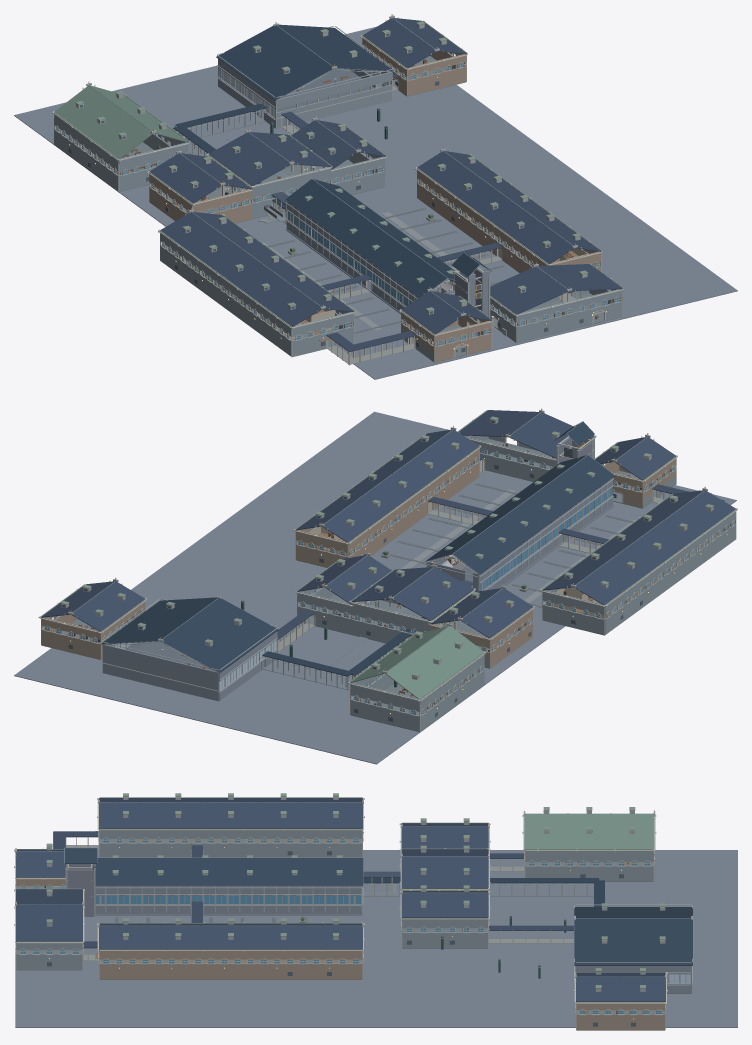
File: lahudi-academy_INTERIOR-FURNITURE-V12.glb
3 renders of one model, top to bottom at view 1: azimuth 30°, elevation 25°; view 2: azimuth 150°, elevation 25°; view 3: azimuth 270°, elevation 25°, orthographic.
Visible parts, largest first — view 1: RG-GAME-02-EXTERIOR-REBUILD-V5__winter_campus_snowbase, RG-GAME-02-EXTERIOR-REBUILD-V5__academic_high_gable_slate_ro (×2), RG-GAME-02-EXTERIOR-REBUILD-V5__library_high_gable_slate_roo (×2), RG-GAME-02-PLAN-LOCK-V9__B_WEST_side_0, RG-GAME-02-PLAN-LOCK-V9__C_EAST_side_0, RG-GAME-02-PLAN-LOCK-V9__G_ASSEMBLY_side_0, RG-GAME-02-PLAN-LOCK-V9__B_WEST_side_1, RG-GAME-02-PLAN-LOCK-V9__B_WEST_west_wall_band_-68.00_24.00 (×2), RG-GAME-02-PLAN-LOCK-V9__E_CENTER_HALL_side_0, RG-GAME-02-PLAN-LOCK-V9__D_EAST_ENTRY_side_0, RG-GAME-02-PLAN-LOCK-V9__C_EAST_west_wall_band_-68.00_24.00 (×2), RG-GAME-02-PLAN-LOCK-V9__F_LIBRARY_SOUTH_REPLACEMENT_wall_ba (×2) (+34 smaller); view 2: RG-GAME-02-EXTERIOR-REBUILD-V5__winter_campus_snowbase, RG-GAME-02-EXTERIOR-REBUILD-V5__academic_high_gable_slate_ro (×2), RG-GAME-02-EXTERIOR-REBUILD-V5__library_high_gable_slate_roo (×2), RG-GAME-02-PLAN-LOCK-V9__B_WEST_side_0, RG-GAME-02-PLAN-LOCK-V9__C_EAST_side_0, RG-GAME-02-EXTERIOR-REBUILD-V5__library_endwall_north, RG-GAME-02-PLAN-LOCK-V9__G_ASSEMBLY_side_0, RG-GAME-02-PLAN-LOCK-V9__B_WEST_side_1, RG-GAME-02-PLAN-LOCK-V9__B_WEST_west_wall_band_-68.00_24.00 (×2), RG-GAME-02-PLAN-LOCK-V9__E_CENTER_HALL_side_0, RG-GAME-02-PLAN-LOCK-V9__C_EAST_west_wall_band_-68.00_24.00 (×2), RG-GAME-02-PLAN-LOCK-V9__C_EAST_side_1 (+35 smaller); view 3: RG-GAME-02-EXTERIOR-REBUILD-V5__winter_campus_snowbase, RG-GAME-02-EXTERIOR-REBUILD-V5__academic_high_gable_slate_ro, RG-GAME-02-PLAN-LOCK-V9__B_WEST_side_1, RG-GAME-02-EXTERIOR-REBUILD-V5__library_high_gable_slate_roo (×2), RG-GAME-02-PLAN-LOCK-V9__C_EAST_side_1, RG-GAME-02-PLAN-LOCK-V9__G_ASSEMBLY_side_1, RG-GAME-02-PLAN-LOCK-V9__C_EAST_east_wall_band_-68.00_24.00 (×2), RG-GAME-02-PLAN-LOCK-V9__B_WEST_east_wall_band_-68.00_24.00 (×2), RG-GAME-02-PLAN-LOCK-V9__E_CENTER_HALL_side_1, RG-GAME-02-PLAN-LOCK-V9__C_EAST_east_low_wall_-68.00_24.00, RG-GAME-02-PLAN-LOCK-V9__D_EAST_ENTRY_side_1, RG-GAME-02-PLAN-LOCK-V9__G_ASSEMBLY_east_wall_band_-170.00_- (×2) (+42 smaller).
Boxes of the visible parts, <box> form: RG-GAME-02-EXTERIOR-REBUILD-V5__winter_campus_snowbase: <box>14,26,737,379</box>; RG-GAME-02-EXTERIOR-REBUILD-V5__academic_high_gable_slate_ro (×2): <box>285,179,465,297</box>; RG-GAME-02-EXTERIOR-REBUILD-V5__library_high_gable_slate_roo (×2): <box>216,24,393,100</box>; RG-GAME-02-PLAN-LOCK-V9__B_WEST_side_0: <box>160,212,322,326</box>; RG-GAME-02-PLAN-LOCK-V9__C_EAST_side_0: <box>417,151,574,264</box>; RG-GAME-02-PLAN-LOCK-V9__G_ASSEMBLY_side_0: <box>54,86,153,159</box>; RG-GAME-02-PLAN-LOCK-V9__B_WEST_side_1: <box>193,212,353,312</box>; RG-GAME-02-PLAN-LOCK-V9__B_WEST_west_wall_band_-68.00_24.00 (×2): <box>160,231,291,347</box>; RG-GAME-02-PLAN-LOCK-V9__E_CENTER_HALL_side_0: <box>209,132,290,185</box>; RG-GAME-02-PLAN-LOCK-V9__D_EAST_ENTRY_side_0: <box>490,266,567,314</box>; RG-GAME-02-PLAN-LOCK-V9__C_EAST_west_wall_band_-68.00_24.00 (×2): <box>417,168,548,269</box>; RG-GAME-02-PLAN-LOCK-V9__F_LIBRARY_SOUTH_REPLACEMENT_wall_ba (×2): <box>276,72,392,119</box>; RG-GAME-02-EXTERIOR-REBUILD-V5__winter_campus_snowbase: <box>14,411,736,764</box>; RG-GAME-02-EXTERIOR-REBUILD-V5__academic_high_gable_slate_ro (×2): <box>426,455,614,574</box>; RG-GAME-02-EXTERIOR-REBUILD-V5__library_high_gable_slate_roo (×2): <box>101,597,278,672</box>; RG-GAME-02-PLAN-LOCK-V9__B_WEST_side_0: <box>574,491,735,605</box>; RG-GAME-02-PLAN-LOCK-V9__C_EAST_side_0: <box>322,430,479,542</box>; RG-GAME-02-EXTERIOR-REBUILD-V5__library_endwall_north: <box>102,644,219,701</box>; RG-GAME-02-PLAN-LOCK-V9__G_ASSEMBLY_side_0: <box>386,626,483,699</box>; RG-GAME-02-PLAN-LOCK-V9__B_WEST_side_1: <box>542,490,703,590</box>; RG-GAME-02-PLAN-LOCK-V9__B_WEST_west_wall_band_-68.00_24.00 (×2): <box>604,509,736,625</box>; RG-GAME-02-PLAN-LOCK-V9__E_CENTER_HALL_side_0: <box>392,567,473,620</box>; RG-GAME-02-PLAN-LOCK-V9__C_EAST_west_wall_band_-68.00_24.00 (×2): <box>348,447,479,557</box>; RG-GAME-02-PLAN-LOCK-V9__C_EAST_side_1: <box>296,429,451,530</box>; RG-GAME-02-EXTERIOR-REBUILD-V5__winter_campus_snowbase: <box>15,850,737,1027</box>; RG-GAME-02-EXTERIOR-REBUILD-V5__academic_high_gable_slate_ro: <box>92,858,363,885</box>; RG-GAME-02-PLAN-LOCK-V9__B_WEST_side_1: <box>99,802,362,828</box>; RG-GAME-02-EXTERIOR-REBUILD-V5__library_high_gable_slate_roo (×2): <box>574,907,692,965</box>; RG-GAME-02-PLAN-LOCK-V9__C_EAST_side_1: <box>99,926,362,949</box>; RG-GAME-02-PLAN-LOCK-V9__G_ASSEMBLY_side_1: <box>524,814,654,848</box>; RG-GAME-02-PLAN-LOCK-V9__C_EAST_east_wall_band_-68.00_24.00 (×2): <box>99,951,362,970</box>; RG-GAME-02-PLAN-LOCK-V9__B_WEST_east_wall_band_-68.00_24.00 (×2): <box>99,830,362,849</box>; RG-GAME-02-PLAN-LOCK-V9__E_CENTER_HALL_side_1: <box>401,856,488,888</box>; RG-GAME-02-PLAN-LOCK-V9__C_EAST_east_low_wall_-68.00_24.00: <box>99,970,362,979</box>; RG-GAME-02-PLAN-LOCK-V9__D_EAST_ENTRY_side_1: <box>16,904,82,941</box>; RG-GAME-02-PLAN-LOCK-V9__G_ASSEMBLY_east_wall_band_-170.00_- (×2): <box>525,851,653,872</box>.
Size of the model in its own units: 169 by 26.24 by 253.
